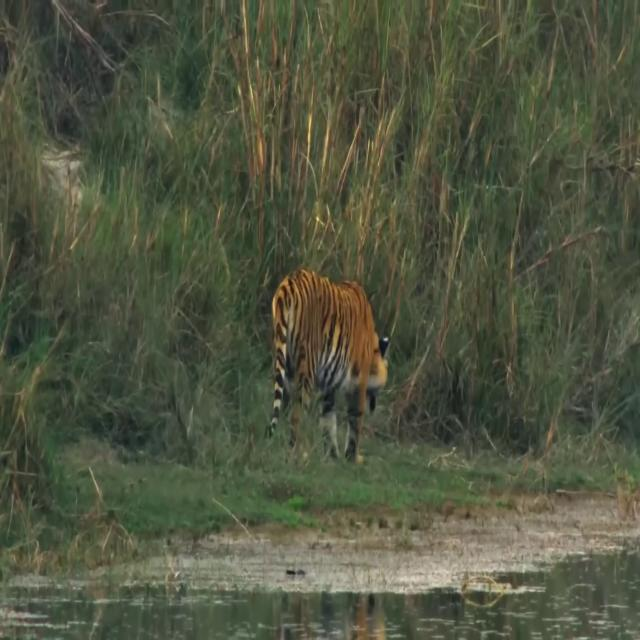tiger: (264, 271, 391, 464)
